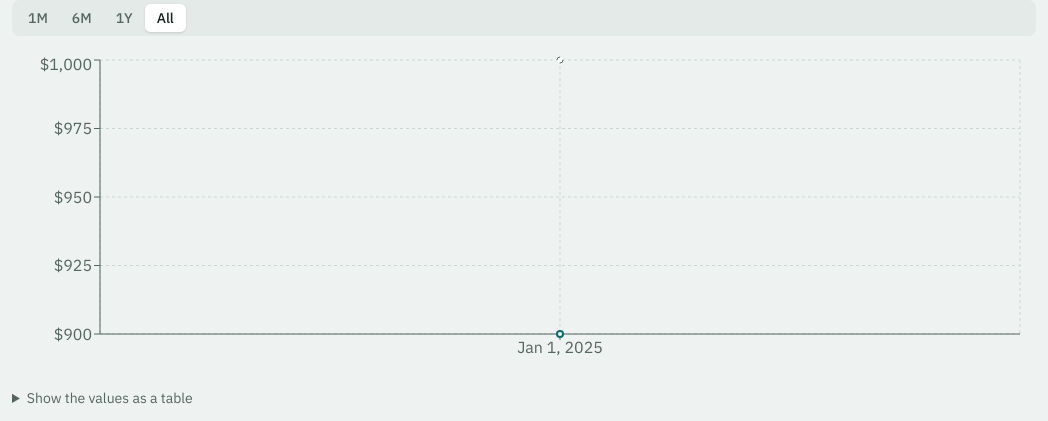
Scenario: ValueChart › says when the selected range has no snapshots
The image size is (1048, 421).
What coordinates should you click on to do the following:
click the tab "1M"
I would click on:
 (38, 18)
Its box is [16,4,60,32].
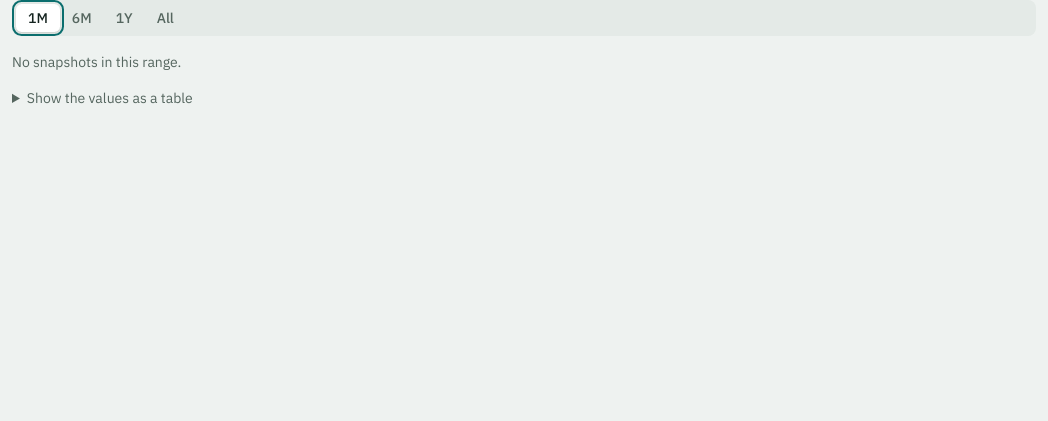
Result: the text "No snapshots in this range." is shown at [12,53,181,71]
